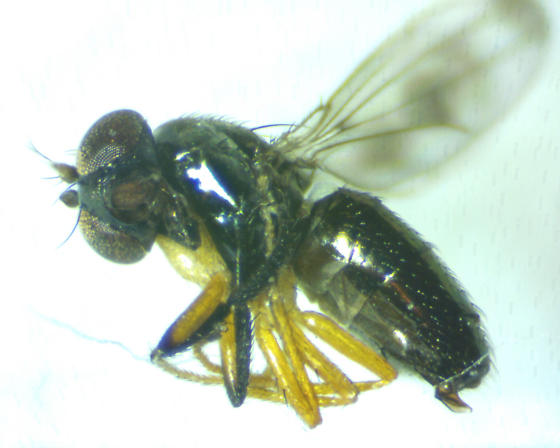Ephydridae: (32, 3, 558, 429)
